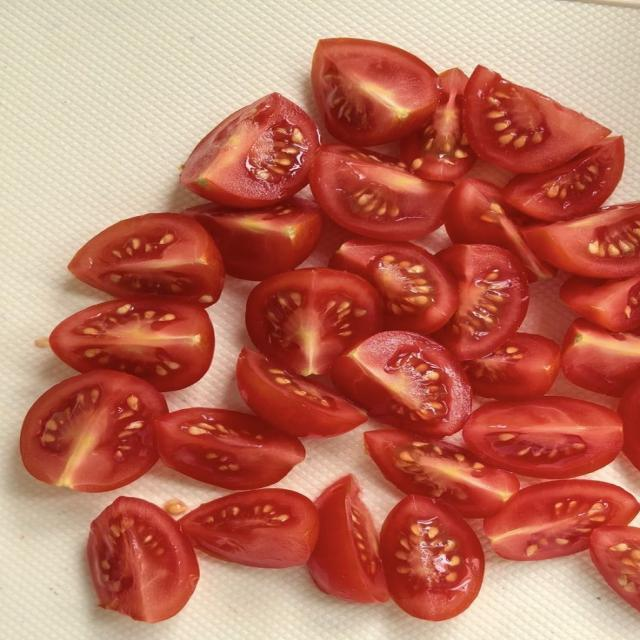sliced tomatoe: (20, 370, 166, 491), (180, 93, 319, 207), (464, 66, 610, 172), (50, 297, 213, 391), (331, 331, 472, 437), (68, 214, 224, 306), (247, 268, 381, 375), (87, 497, 199, 622), (312, 38, 439, 146), (365, 429, 519, 518), (310, 145, 452, 240), (380, 496, 484, 620), (463, 397, 622, 478), (484, 480, 639, 561), (329, 238, 458, 334), (154, 408, 305, 489), (183, 198, 322, 280), (445, 179, 556, 281), (236, 350, 366, 437), (180, 489, 318, 568), (435, 244, 528, 360), (308, 475, 388, 603), (504, 137, 624, 221), (523, 203, 639, 278), (401, 68, 476, 180), (463, 333, 559, 400), (562, 319, 639, 397), (560, 275, 639, 332), (591, 525, 639, 610), (618, 380, 639, 469)
